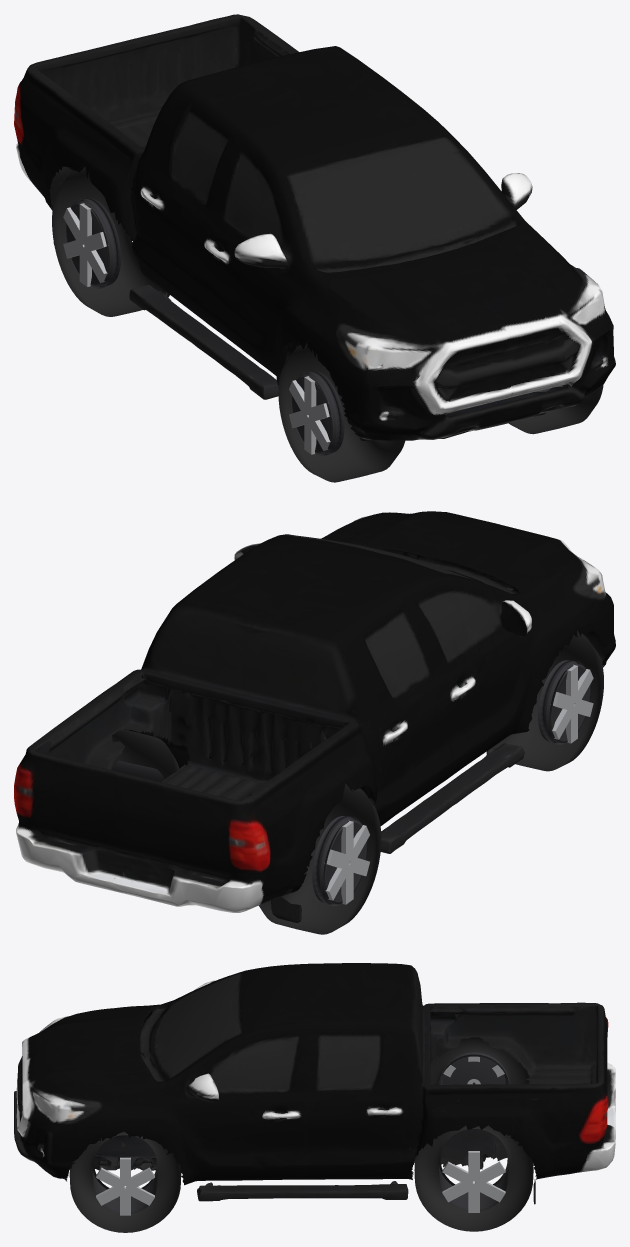
File: carro13.glb
The picture shows the model from 3 angles, top to bottom: view 1: azimuth 30°, elevation 25°; view 2: azimuth 150°, elevation 25°; view 3: azimuth 270°, elevation 25°; orthographic projection. The views are drawn at different scales.
Parts seen in each view (by area): view 1: Body, Wheel_RR, Wheel_FR, Wheel_FL; view 2: Body, Wheel_RR, Wheel_FR, Wheel_RL; view 3: Body, Wheel_RL, Wheel_FL, Wheel_RR.
Boxes of the visible parts, x1,y1,x2,y2 form: Body: (14,14,615,441); Wheel_RR: (52,166,169,316); Wheel_FR: (278,343,405,482); Wheel_FL: (509,384,603,434); Body: (14,511,615,922); Wheel_RR: (258,784,381,934); Wheel_FR: (493,632,603,771); Wheel_RL: (112,729,179,781); Body: (14,963,615,1204); Wheel_RL: (414,1125,533,1231); Wheel_FL: (69,1132,181,1232); Wheel_RR: (430,1037,529,1084).
Size of the model in its own units: 0.8306 by 0.686 by 1.9.
Materials: 4 (1 with a texture image).
